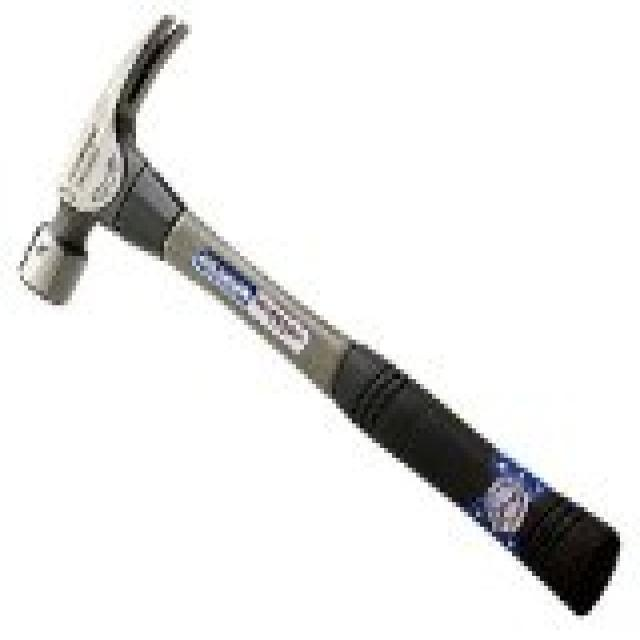hammer: (8, 5, 630, 628)
